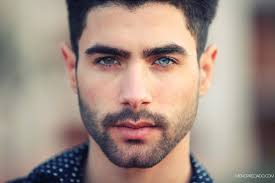middle_eastern_male: (72, 3, 214, 164)
